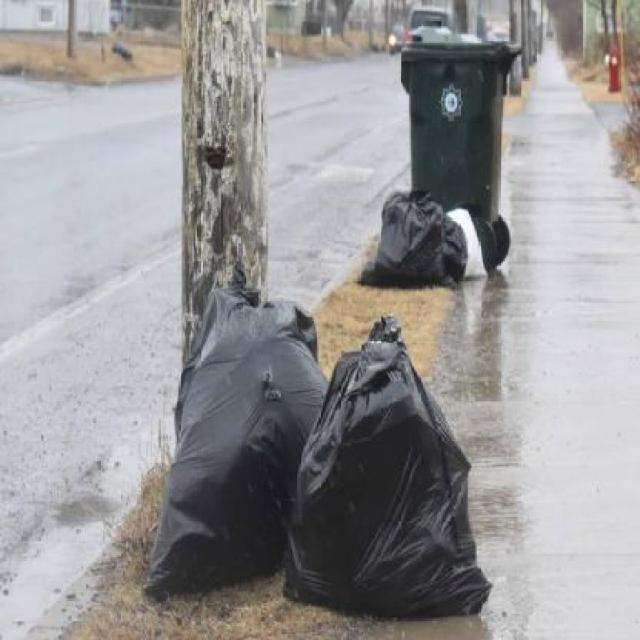garbage: (145, 265, 500, 635), (357, 169, 494, 276)
